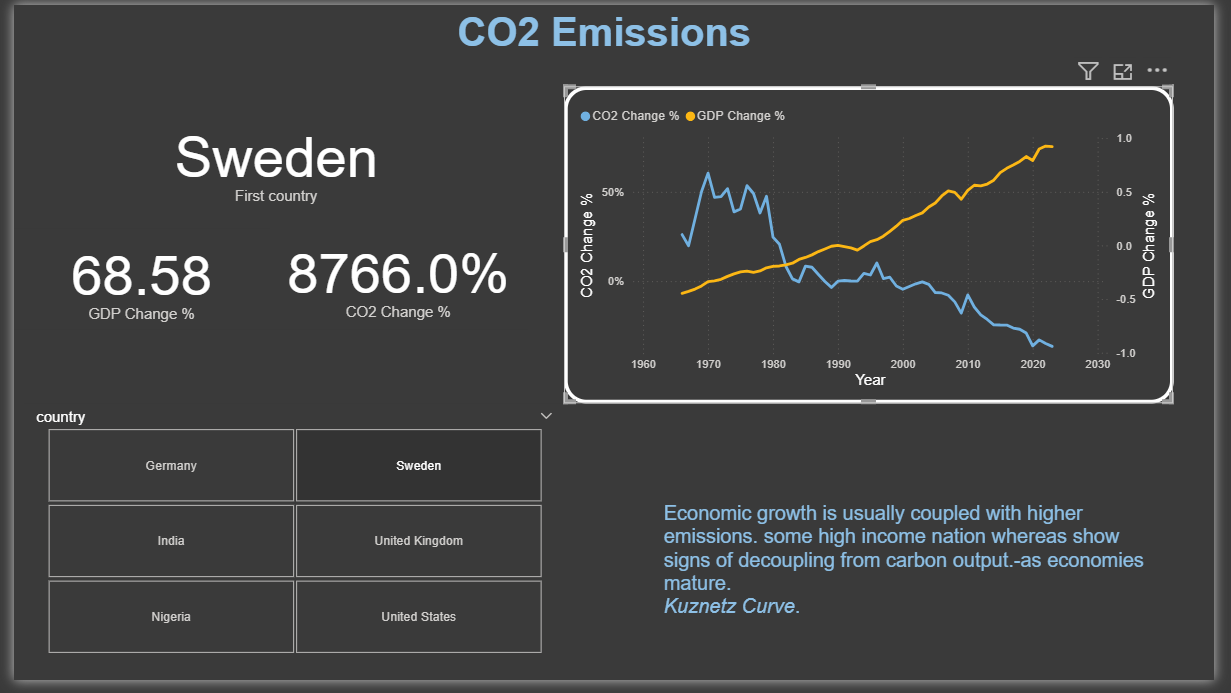

The dashboard page shown, as its layout file describes it:
{"tool":"powerbi","page":{"name":"CO2 Emissions","canvas":[1280,720],"ordinal":2},"visuals":[{"type":"slicer","fields":{"Values":["co2-emissions-and-gdp.Entity"]},"box":[10,425,576.2,272.5],"z":0},{"type":"lineChart","fields":{"Category":["co2-emissions-and-gdp.Year"],"Y":["co2-emissions-and-gdp.CO2 Emissions Change %"],"Y2":["co2-emissions-and-gdp.GDP Change %"]},"box":[586.2,86.2,650,338.8],"z":1000},{"type":"card","fields":{"Values":["co2-emissions-and-gdp.CO2 Change %"]},"box":[272.5,235,276.2,111.2],"z":2000},{"type":"card","fields":{"Values":["co2-emissions-and-gdp.GDP Change %"]},"box":[0,238.8,272.5,107.5],"z":3000},{"type":"card","fields":{"Values":["Min(co2-emissions-and-gdp.country)"]},"box":[10,106.2,538.8,118.8],"z":4000},{"type":"textbox","box":[687.5,525,548.8,137.5],"z":5000},{"type":"textbox","box":[395,0,470,70],"z":6000}]}

Visuals, with their boxes in screenshot pixels (x1, y1, x2, y2), scaled from the page's 1280x720 canvas onto the 1231x693 screenshot:
slicer - co2-emissions-and-gdp.Entity: x1=10 y1=409 x2=564 y2=671
lineChart - co2-emissions-and-gdp.Year x co2-emissions-and-gdp.CO2 Emissions Change %: x1=564 y1=83 x2=1189 y2=409
card - co2-emissions-and-gdp.CO2 Change %: x1=262 y1=226 x2=528 y2=333
card - co2-emissions-and-gdp.GDP Change %: x1=0 y1=230 x2=262 y2=333
card - Min(co2-emissions-and-gdp.country): x1=10 y1=102 x2=528 y2=217
textbox: x1=661 y1=505 x2=1189 y2=638
textbox: x1=380 y1=0 x2=832 y2=67
